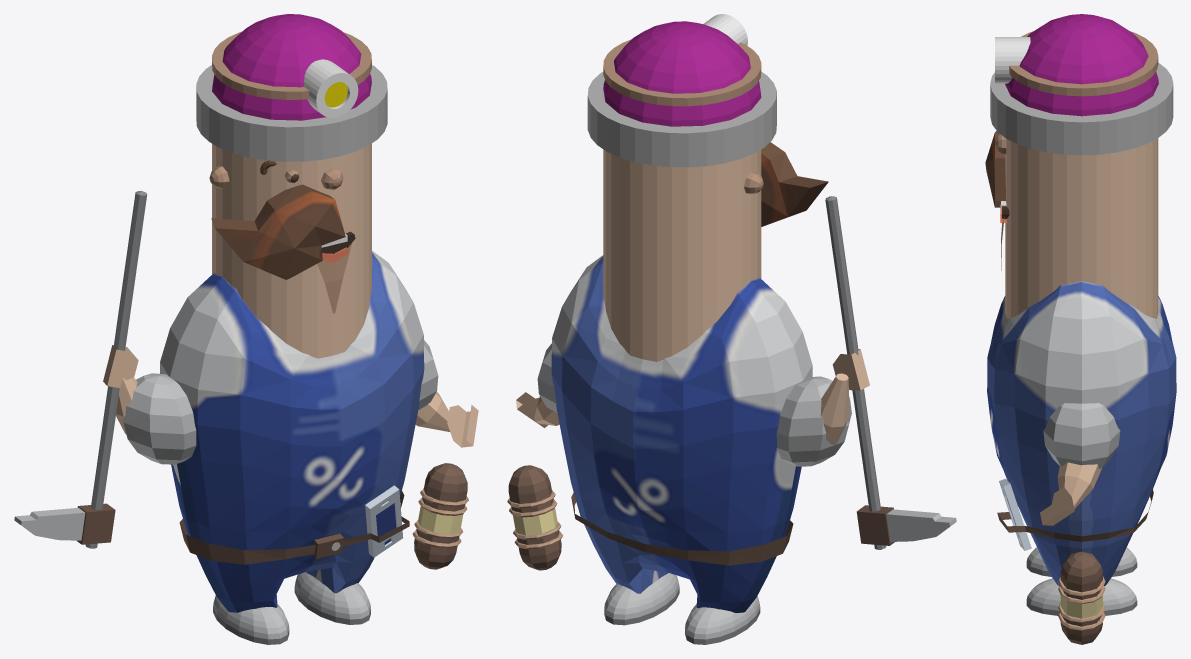
The model's file is bercik2.dae.
The picture shows the model from 3 angles, left to right: view 1: azimuth 30°, elevation 25°; view 2: azimuth 150°, elevation 25°; view 3: azimuth 270°, elevation 25°; orthographic projection. The views are drawn at different scales.
Parts seen in each view (by area): view 1: Sphere_001, Cylinder_003, Sphere, Cylinder, Cube, Sphere_008, Cylinder_005, Sphere_005, Sphere_003, Cylinder_010, Cylinder_004, Cylinder_001 (+9 smaller); view 2: Sphere_001, Cylinder_003, Sphere, Cylinder, Sphere_008, Cylinder_005, Sphere_005, Cube, Cylinder_001, Cylinder_010, Sphere_003, Sphere_002 (+6 smaller); view 3: Sphere_001, Cylinder_003, Sphere, Cylinder, Sphere_009, Sphere_005, Cylinder_001, Sphere_003, Cylinder_007, Cylinder_004, Cylinder_010, Cube (+3 smaller).
Boxes of the visible parts, x1,y1,x2,y2 form: Sphere_001: (160,250,424,612); Cylinder_003: (212,143,371,358); Sphere: (212,14,371,120); Cylinder: (196,65,387,161); Cube: (211,184,345,280); Sphere_008: (123,373,196,464); Cylinder_005: (85,190,147,548); Sphere_005: (414,463,467,569); Sphere_003: (294,572,370,624); Cylinder_010: (179,491,409,564); Cylinder_004: (304,59,358,117); Cylinder_001: (212,31,371,99); Sphere_001: (551,255,812,612); Cylinder_003: (603,149,761,361); Sphere: (603,21,761,126); Cylinder: (587,72,776,167); Sphere_008: (776,376,851,466); Cylinder_005: (825,196,886,549); Sphere_005: (508,465,561,570); Cube: (761,142,828,226); Cylinder_001: (603,39,761,106); Cylinder_010: (571,492,793,565); Sphere_003: (604,573,679,625); Sphere_002: (685,596,760,644); Sphere_001: (987,281,1176,585); Cylinder_003: (1005,138,1158,318); Sphere: (1005,14,1158,116); Cylinder: (990,62,1173,155); Sphere_009: (1043,403,1120,469); Sphere_005: (1060,551,1102,644); Cylinder_001: (1009,31,1158,96); Sphere_003: (1026,578,1137,615); Cylinder_007: (1057,462,1101,508); Cylinder_004: (995,37,1030,83); Cylinder_010: (997,489,1153,541); Cube: (985,131,1006,207).
Size of the model in its own units: 8.58 by 3.29 by 10.74.
Materials: 31 (2 with a texture image).
